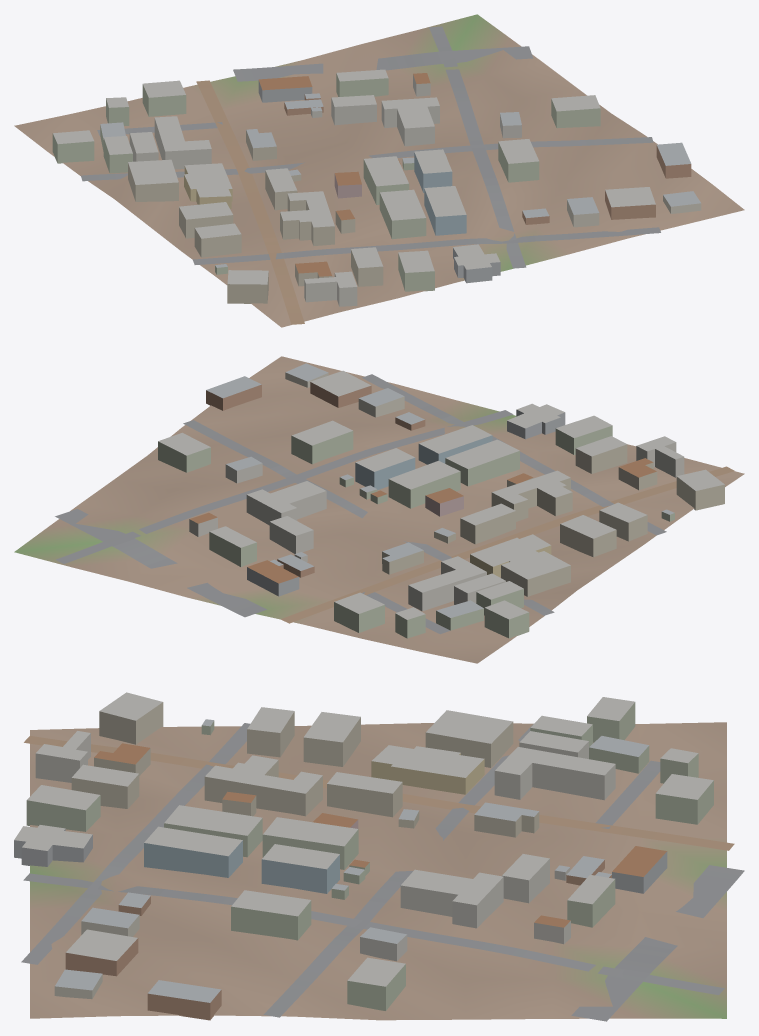
3 renders of one model, top to bottom at view 1: azimuth 30°, elevation 25°; view 2: azimuth 150°, elevation 25°; view 3: azimuth 270°, elevation 25°, orthographic. The views are drawn at different scales.
Parts seen in each view (by area): view 1: Lo; view 2: Lo; view 3: Lo.
Boxes of the visible parts, box(x1,y1,x2,y2) form: Lo: box(14, 14, 744, 327); Lo: box(14, 356, 744, 663); Lo: box(14, 692, 744, 1021).
Size of the model in its own units: 269 by 14.79 by 268.
